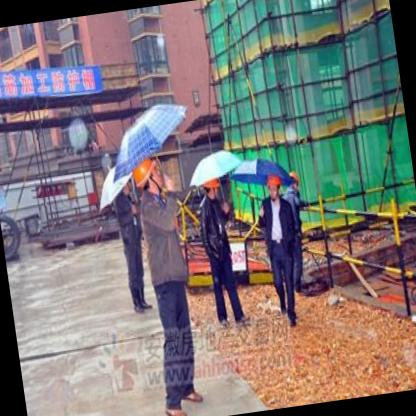helmet: (129, 156, 166, 200), (202, 172, 223, 202), (264, 171, 284, 202), (285, 164, 302, 194)
